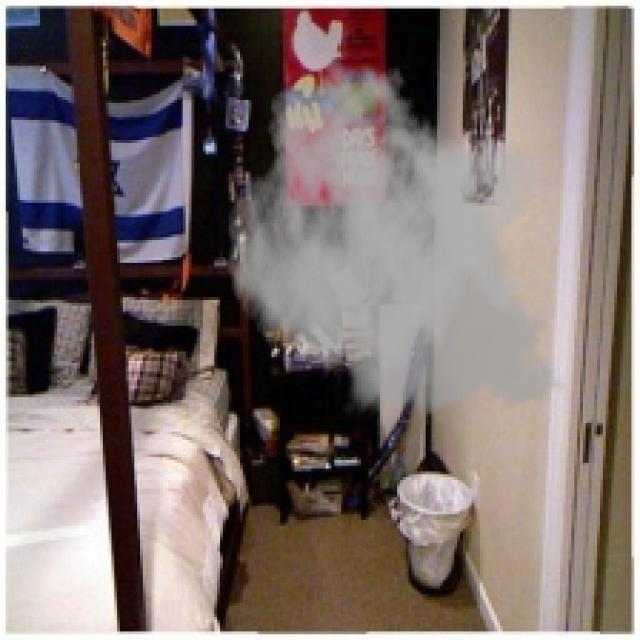Smoke: (226, 51, 572, 428)
